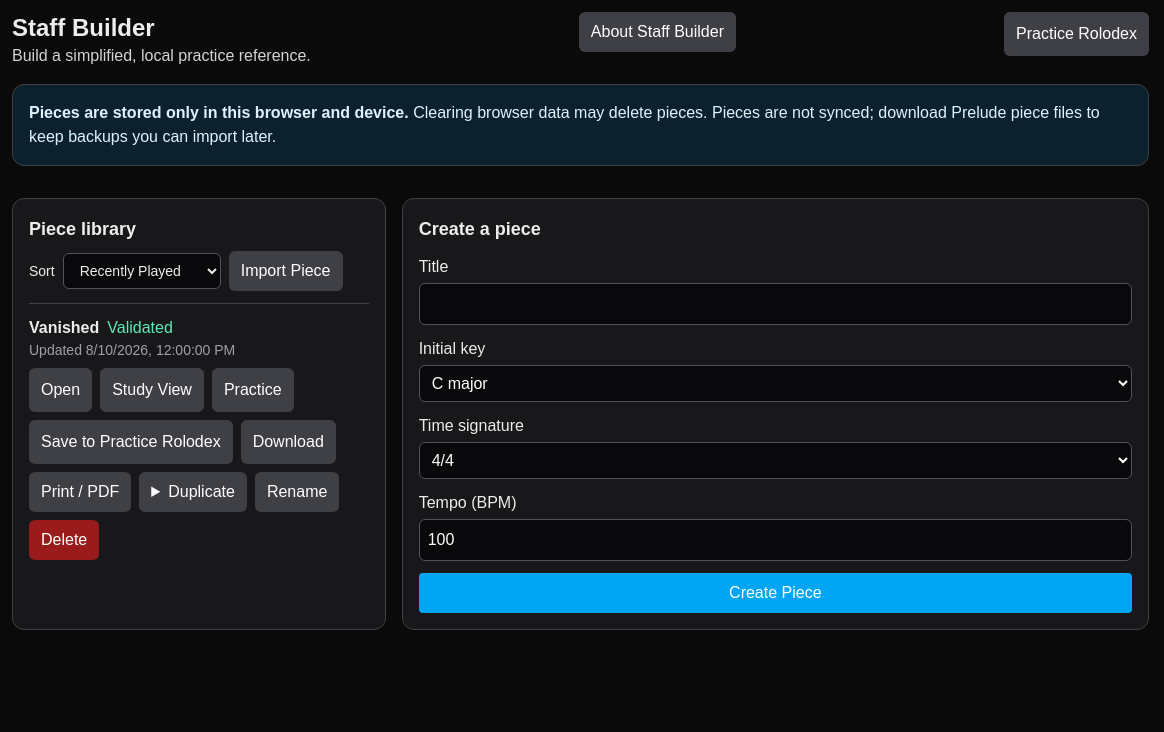
Test: Staff Builder library Study View and editing lock › reports a corrupt saved piece at click time without opening an editor or writing storage
Click the button with aria-label "Study View Vanished". click: (152, 390)
box: [100,368,204,412]
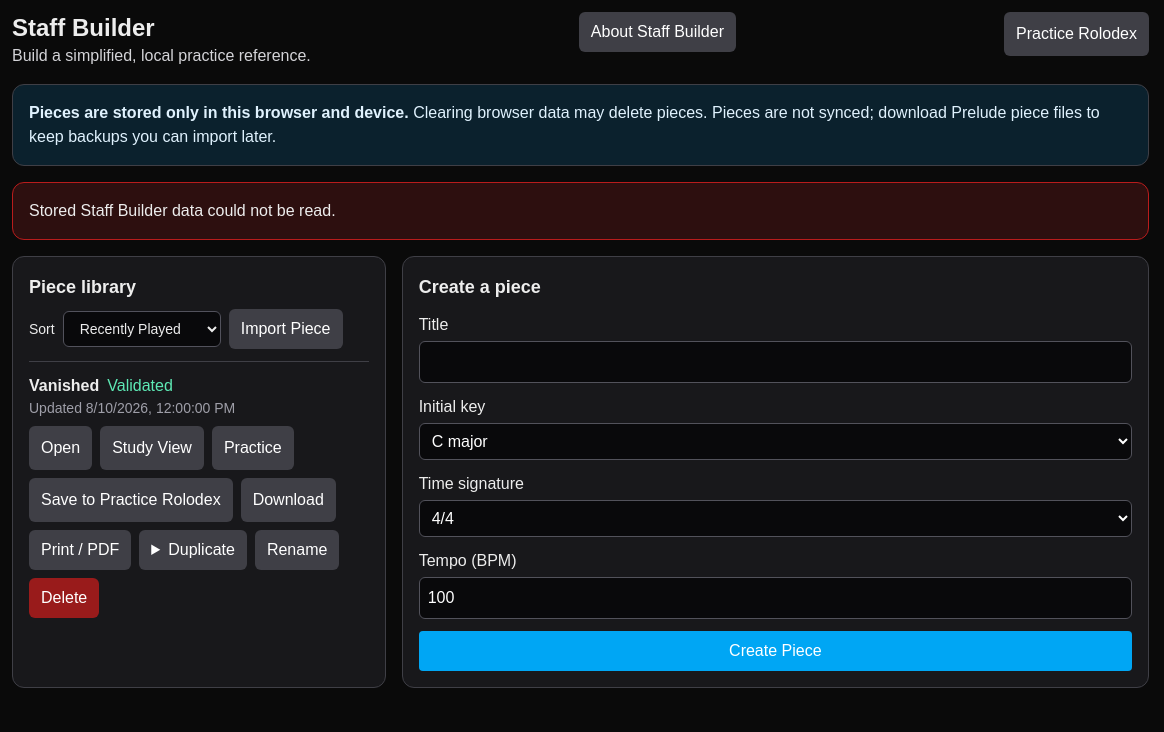
Expected: the message reads "Stored Staff Builder data could not be read.", [29,202,336,219]
